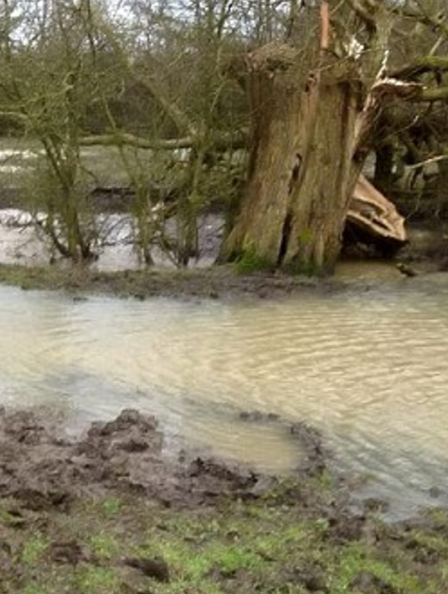tree: (195, 1, 390, 289)
water: (1, 280, 448, 509), (1, 199, 234, 271)
